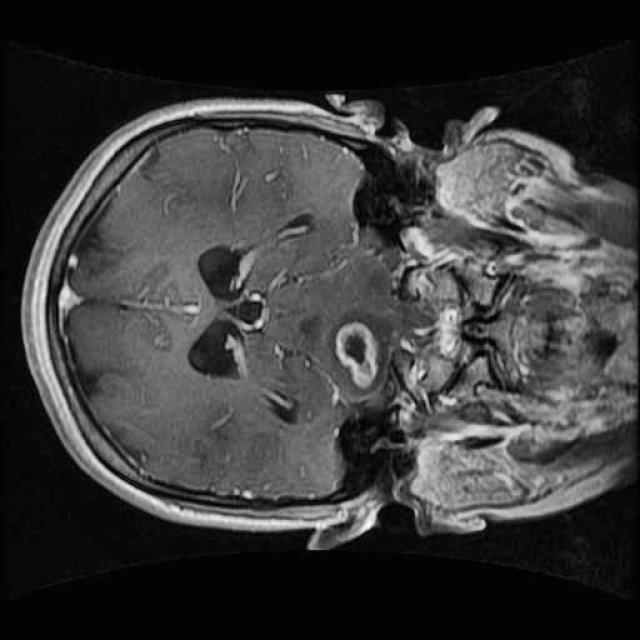Tumor: (328, 310, 388, 395)
